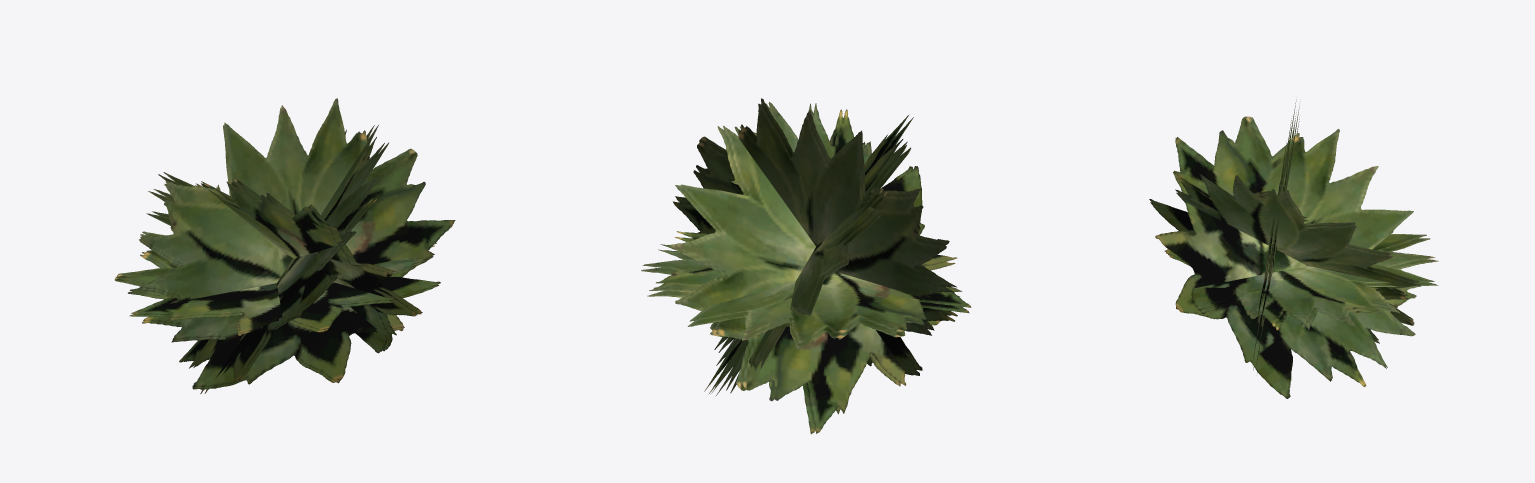
Rendered from plant_desert_02.glb.
3 views of the same model, side by side, from view 1: azimuth 30°, elevation 25°; view 2: azimuth 150°, elevation 25°; view 3: azimuth 270°, elevation 25° (orthographic). The views are drawn at different scales.
Parts seen in each view (by area): view 1: plant_desert_02; view 2: plant_desert_02; view 3: plant_desert_02.
Part boxes in pixels (x1=…): plant_desert_02: x1=115, y1=98, x2=455, y2=393; plant_desert_02: x1=641, y1=98, x2=971, y2=434; plant_desert_02: x1=1149, y1=99, x2=1438, y2=398.
Bounding box in the file's own units: 3.24 × 3.51 × 4.02.
1 material, 1 textured.
